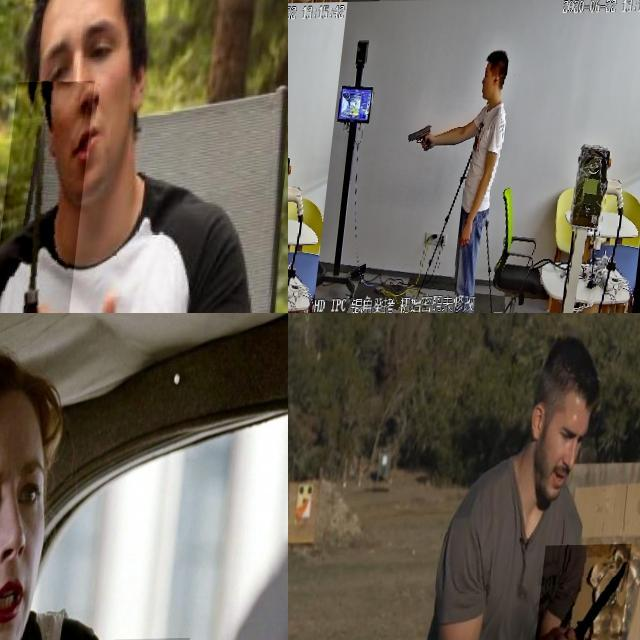-: (0, 82, 98, 313), (539, 545, 638, 640)
gun-knife-thesis - v11 Yolov5 augmented: (413, 120, 446, 150), (288, 49, 300, 91), (454, 0, 479, 17), (288, 0, 302, 16)
